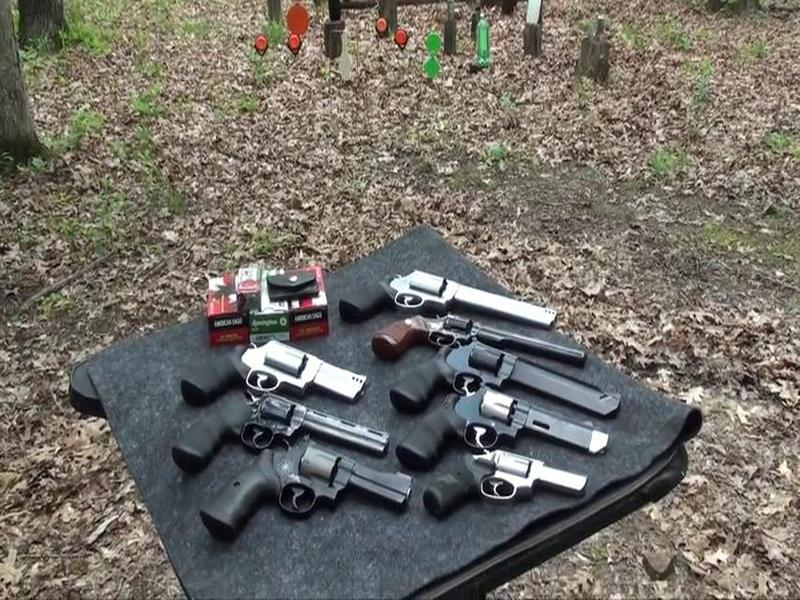Revolver: (390, 328, 622, 434), (187, 446, 413, 549), (357, 252, 595, 342), (177, 317, 374, 424), (419, 440, 596, 524)
